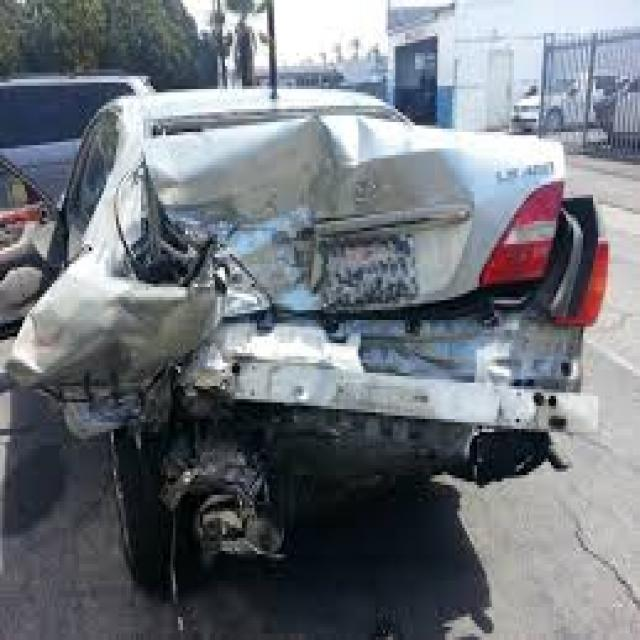severe: (68, 122, 594, 486)
